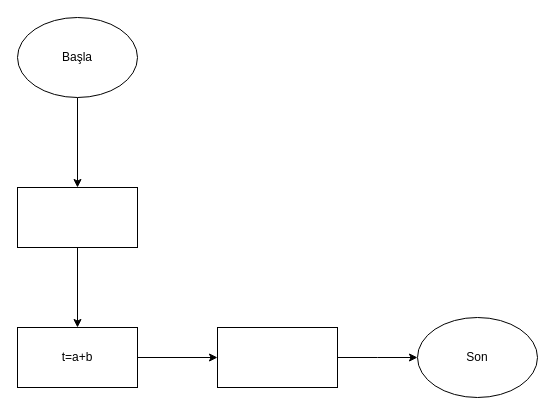
Image size: 555x415. Some labels were removed from this diagram. The centre of each missing label's shape, as x and y in pixels:
"iki sayı giriniz; a, b" goes at (77,217).
"Yaz, t" goes at (277,357).
